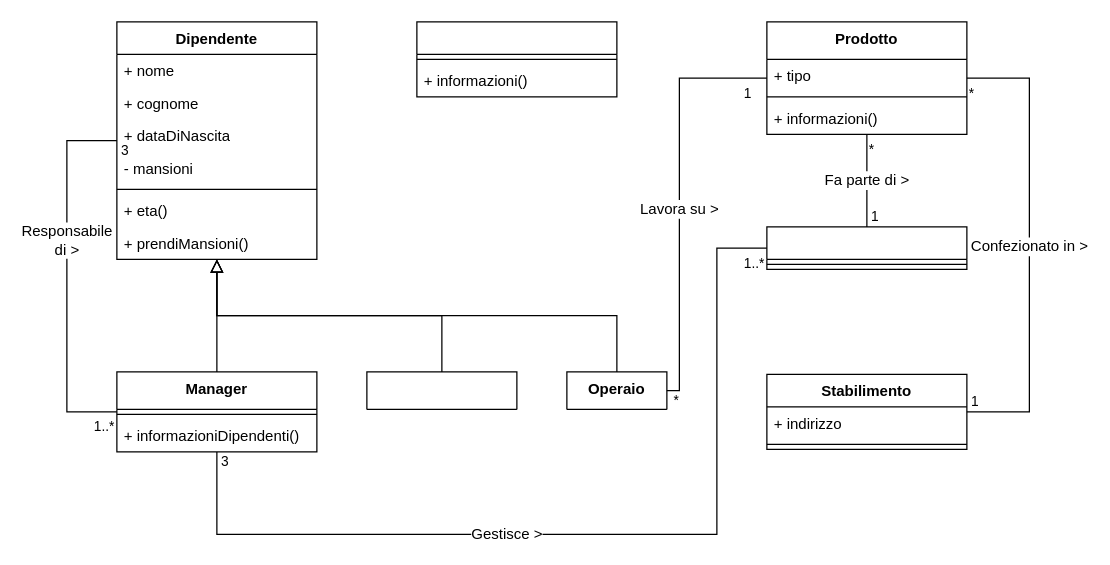
Image size: 1110x565. Some labels were removed from this diagram. The shapes that lost their labels are listed below. From the top down, each one's box as (x1, y1, x2, y2) in pixels, then its label:
(416, 21, 617, 97): Catalogo
(766, 226, 967, 269): LineaDiProdotto
(366, 371, 517, 409): Supervisore
